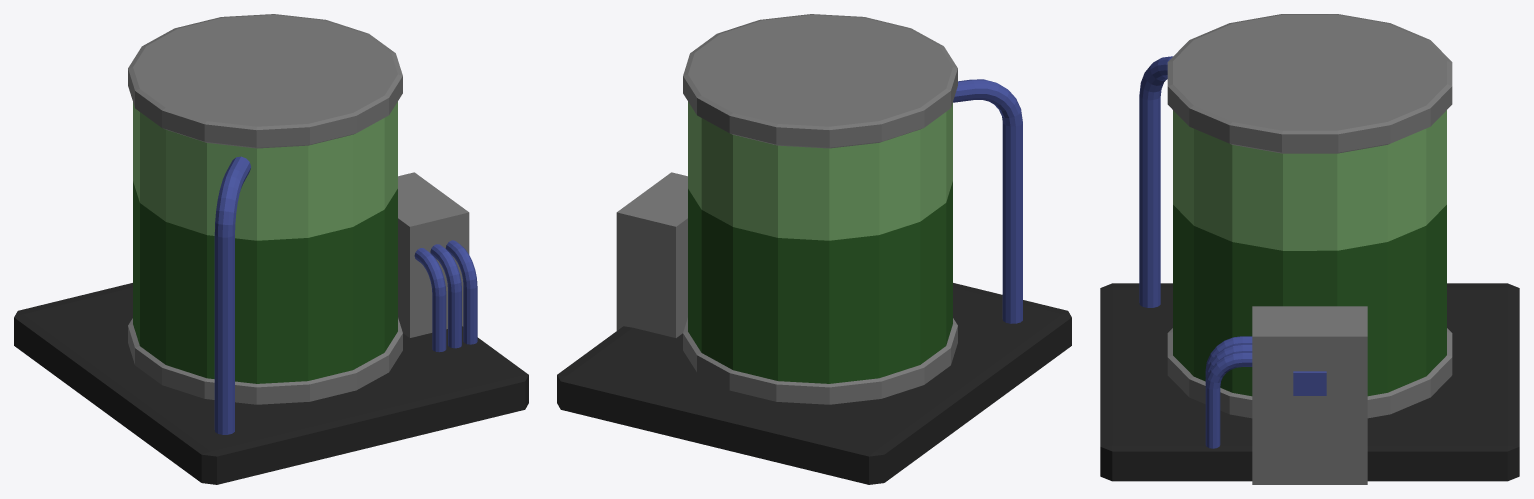
Rendered from NutrientVat.glb.
3 renders of one model, left to right at view 1: azimuth 30°, elevation 25°; view 2: azimuth 150°, elevation 25°; view 3: azimuth 270°, elevation 25°, orthographic. The views are drawn at different scales.
Visible parts, largest first — view 1: Torus.003; view 2: Torus.003; view 3: Torus.003.
Part boxes in pixels (x1=…): Torus.003: x1=14, y1=14, x2=528, y2=484; Torus.003: x1=557, y1=14, x2=1071, y2=484; Torus.003: x1=1100, y1=14, x2=1519, y2=484.
Size of the model in its own units: 1.85 by 1.6 by 1.89.
